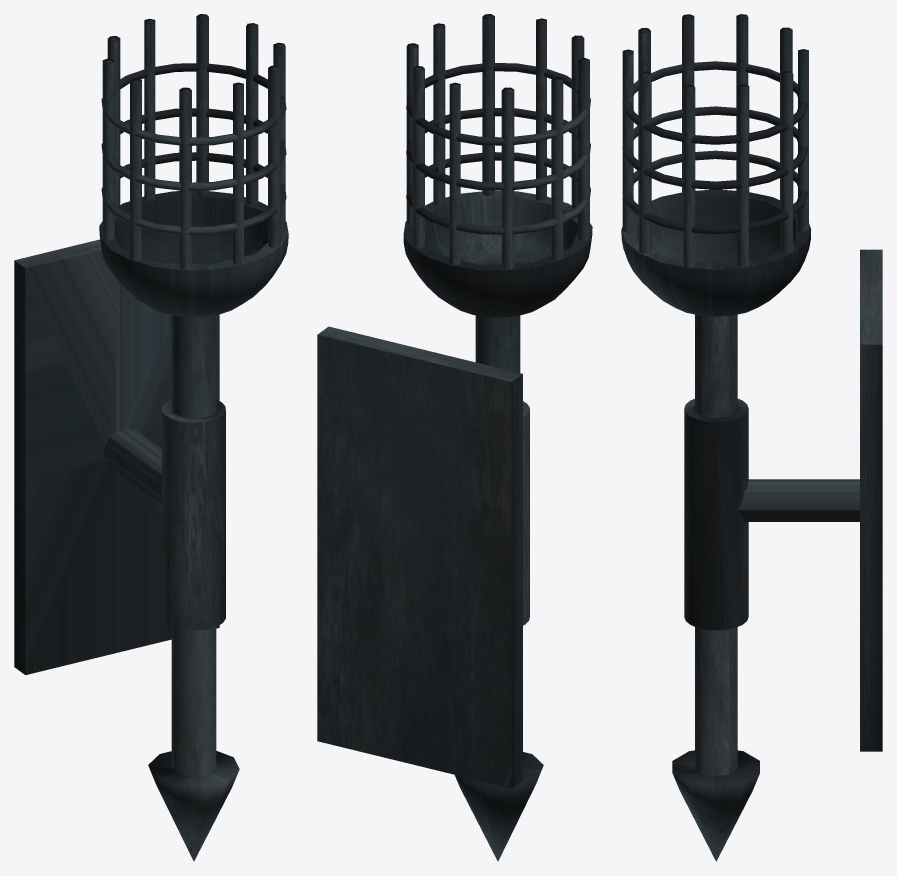
Rendered from Final_dark_Torch.fbx.
The picture shows the model from 3 angles, left to right: view 1: azimuth 30°, elevation 25°; view 2: azimuth 150°, elevation 25°; view 3: azimuth 270°, elevation 25°; orthographic projection.
Visible parts, largest first — view 1: pCylinder14; view 2: pCylinder14; view 3: pCylinder14.
Part boxes in pixels (x1,y1,x2,y2): pCylinder14: [14, 14, 288, 861]; pCylinder14: [317, 14, 592, 861]; pCylinder14: [621, 14, 882, 861].
Bounding box in the file's own units: 10 × 39.78 × 11.63.
1 material, 1 textured.
